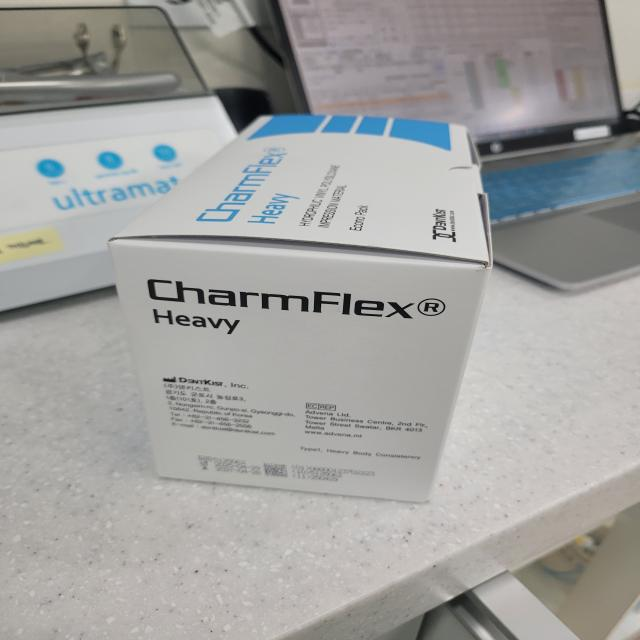impression: (104, 101, 502, 524)
